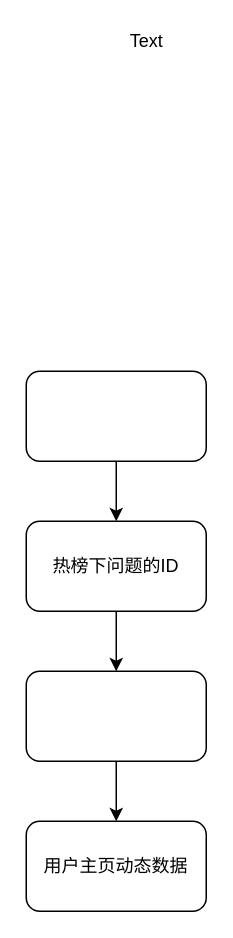
The diagram is 233 pixels wide and 938 high, and some of its shapes have lost their labels. The shapes that lost their labels are listed below. From the top down, each one's box as (x1, y1, x2, y2) in pixels, then its label:
(25, 370, 206, 461): 热榜（数码、科学、体育等）
(25, 670, 206, 761): 回答热榜问题的用户ID
